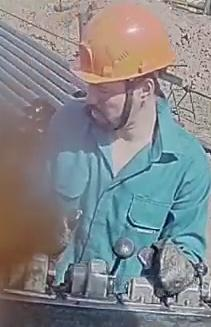gloves: (137, 235, 198, 294)
helmet: (69, 2, 176, 93)
vest: (49, 97, 210, 296)
